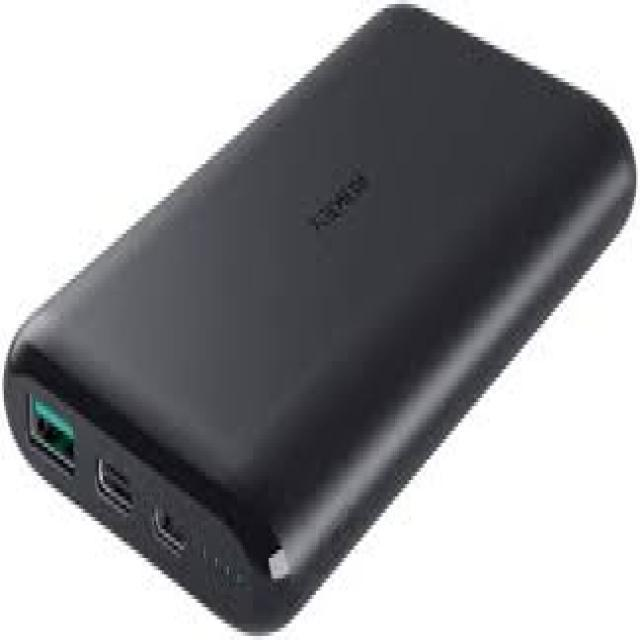Battery: (0, 0, 640, 630)
